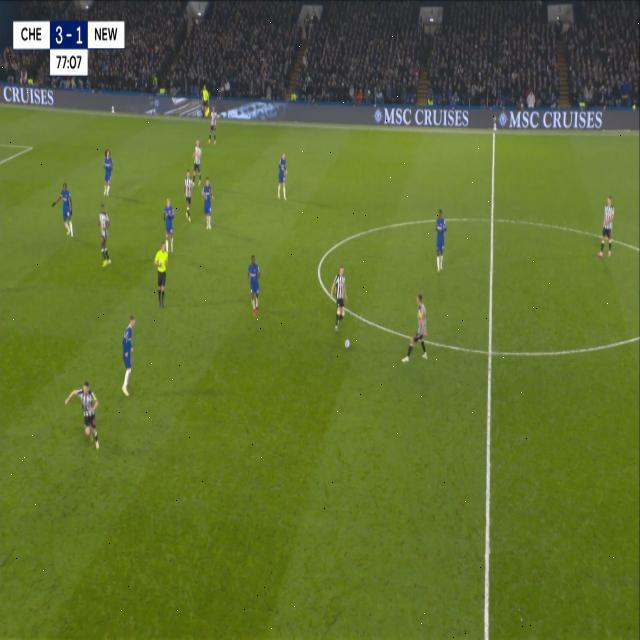Ball: (343, 336, 351, 349)
Chelsea: (118, 310, 138, 400), (50, 176, 76, 241), (245, 250, 263, 318), (432, 203, 449, 274), (275, 146, 289, 206), (162, 196, 176, 256), (200, 176, 214, 231), (101, 144, 112, 199)
Newcastle: (63, 376, 103, 454), (400, 292, 429, 368), (328, 260, 351, 336), (597, 192, 617, 260), (94, 198, 112, 270), (191, 137, 204, 188), (182, 168, 194, 222), (208, 106, 220, 150)
Refree: (152, 236, 171, 310)
